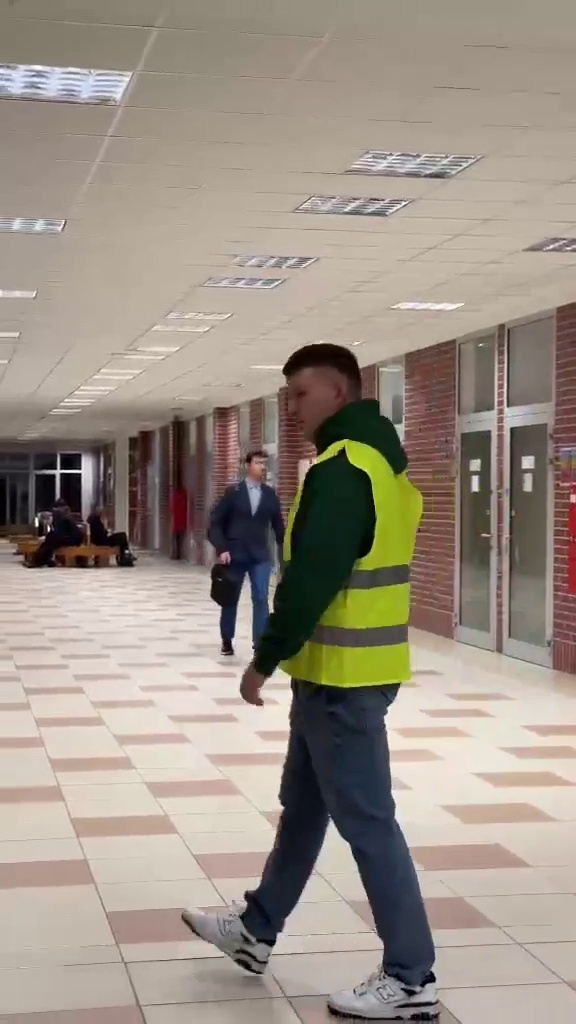no vest: (211, 446, 290, 649)
vest: (261, 331, 435, 1005)
